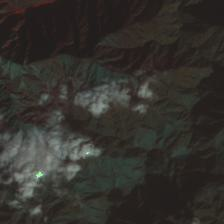landslides: (1, 35, 22, 52), (0, 11, 19, 24), (53, 8, 59, 38), (2, 0, 14, 9)
